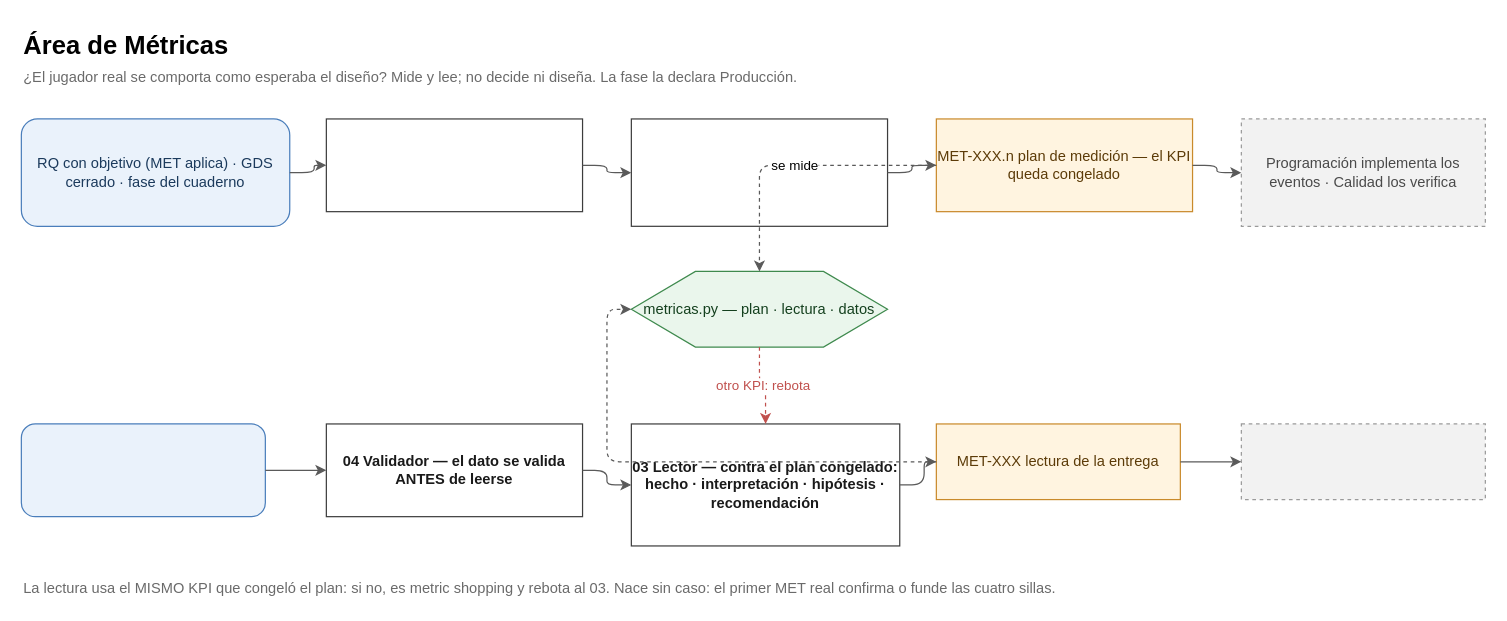
This 1507x621 diagram has some shape labels left out. Each missing label, with the centre of its shape:
"01 Analista de Objetivo — un KPI entero + guardrails" goes at pixel 454 165.
"02 Diseñador de Medición — tracking plan mínimo + QA de eventos" goes at pixel 759 172.
"Datos de la build jugada (CSV de eventos)" goes at pixel 142 470.
"Producción → VE (decide)" goes at pixel 1362 461.
